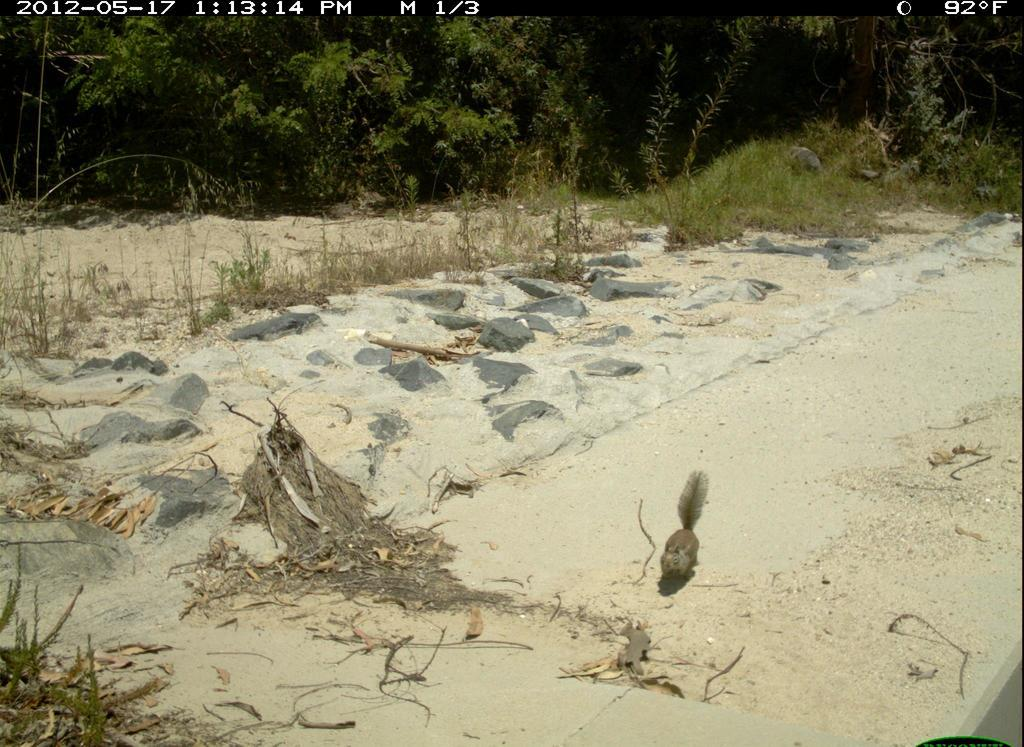squirrel: (656, 469, 715, 588)
